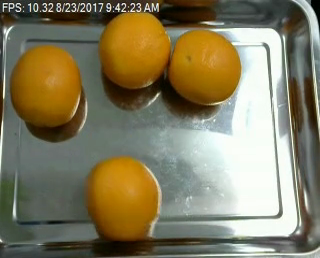Orange: (83, 154, 160, 240), (8, 44, 81, 125), (99, 11, 171, 87), (169, 29, 241, 105)
